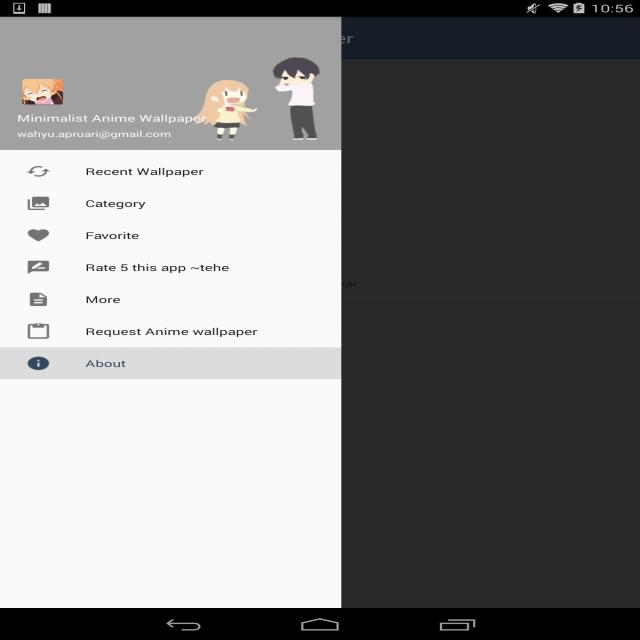button: (0, 314, 342, 348), (0, 185, 341, 219), (0, 151, 340, 185), (0, 250, 340, 284), (0, 218, 341, 249), (1, 349, 339, 380), (0, 284, 340, 314)
heading: (16, 112, 210, 125)
image: (0, 17, 340, 150), (22, 80, 62, 108), (21, 319, 58, 344), (23, 193, 55, 214), (20, 354, 56, 372), (23, 257, 56, 276), (26, 163, 54, 180), (21, 291, 49, 308), (26, 226, 54, 242)
text: (84, 322, 260, 341), (81, 258, 234, 274), (16, 128, 178, 143), (80, 165, 206, 179), (80, 196, 152, 211), (82, 228, 142, 242), (80, 292, 132, 306), (82, 360, 138, 373)
